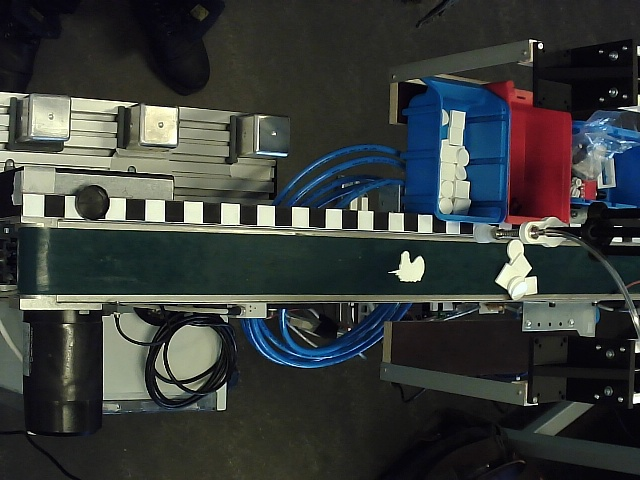unicorn: (388, 251, 426, 283)
